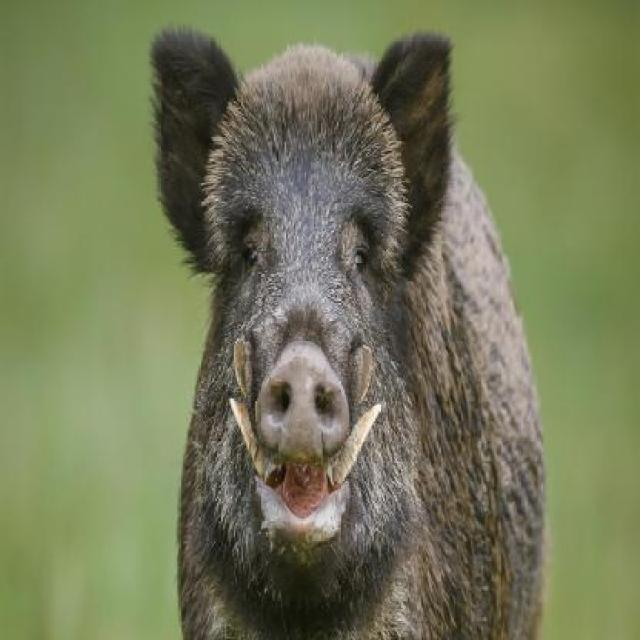wildboar: (141, 15, 550, 640)
